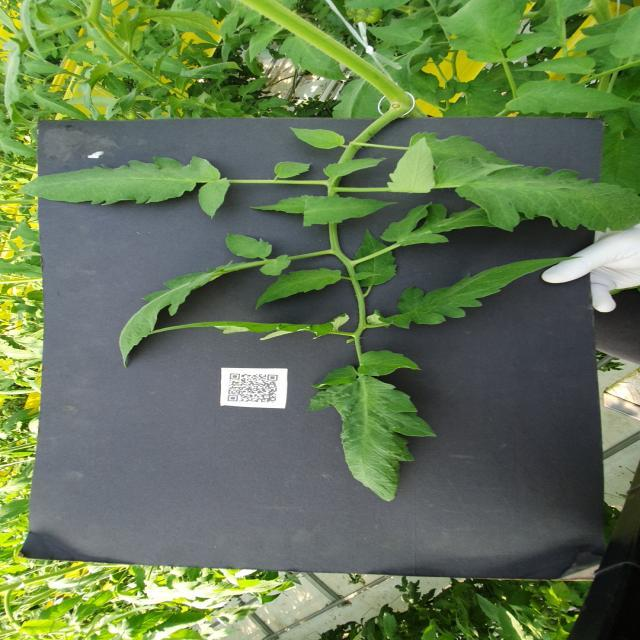Tomato healthy leaf: (306, 349, 437, 504), (426, 153, 640, 235), (366, 255, 584, 330), (118, 260, 250, 369), (17, 154, 230, 220), (144, 312, 351, 350), (378, 200, 498, 248), (504, 76, 640, 115), (437, 0, 521, 63), (113, 5, 224, 50), (252, 266, 342, 310), (278, 35, 350, 82), (304, 196, 402, 227), (385, 136, 437, 194), (356, 227, 398, 287), (26, 82, 90, 120), (513, 55, 597, 74), (38, 590, 86, 620), (288, 126, 347, 150), (322, 157, 389, 178), (507, 34, 559, 61), (247, 24, 282, 62), (223, 232, 273, 258), (250, 194, 304, 217), (366, 26, 424, 46), (0, 132, 38, 158), (237, 76, 274, 99), (257, 254, 293, 276), (274, 160, 312, 178), (0, 260, 35, 276), (258, 96, 292, 112)
